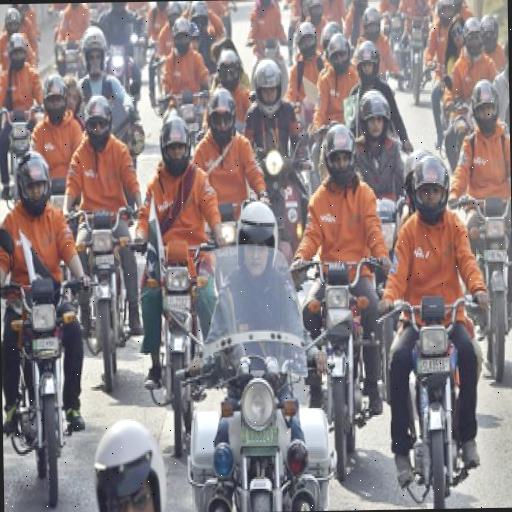helmet: (182, 188, 325, 500), (372, 147, 486, 477), (284, 106, 394, 440), (0, 144, 94, 502), (62, 83, 152, 364), (443, 73, 512, 342)
